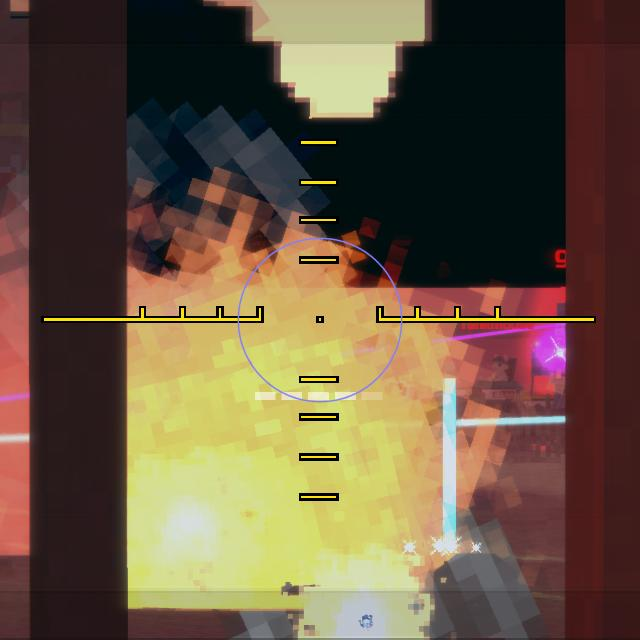Enemy: (532, 302, 566, 410)
